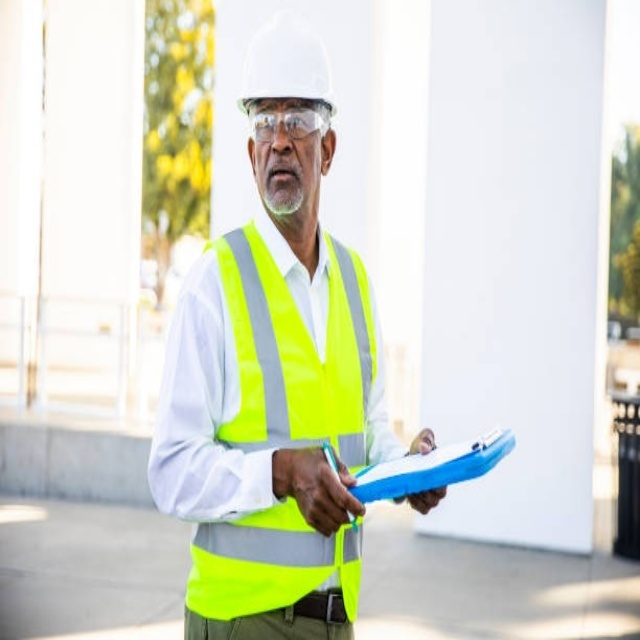Gafas: (247, 108, 331, 144)
Sin_guantes: (283, 443, 369, 538), (393, 431, 448, 513)
Sin_mascara: (262, 155, 300, 205)
